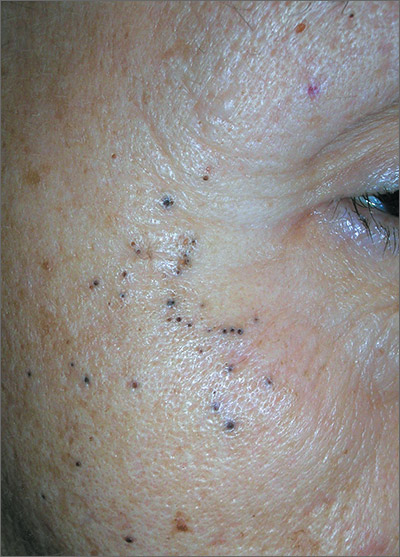Flek Hitam: (16, 151, 287, 557)
